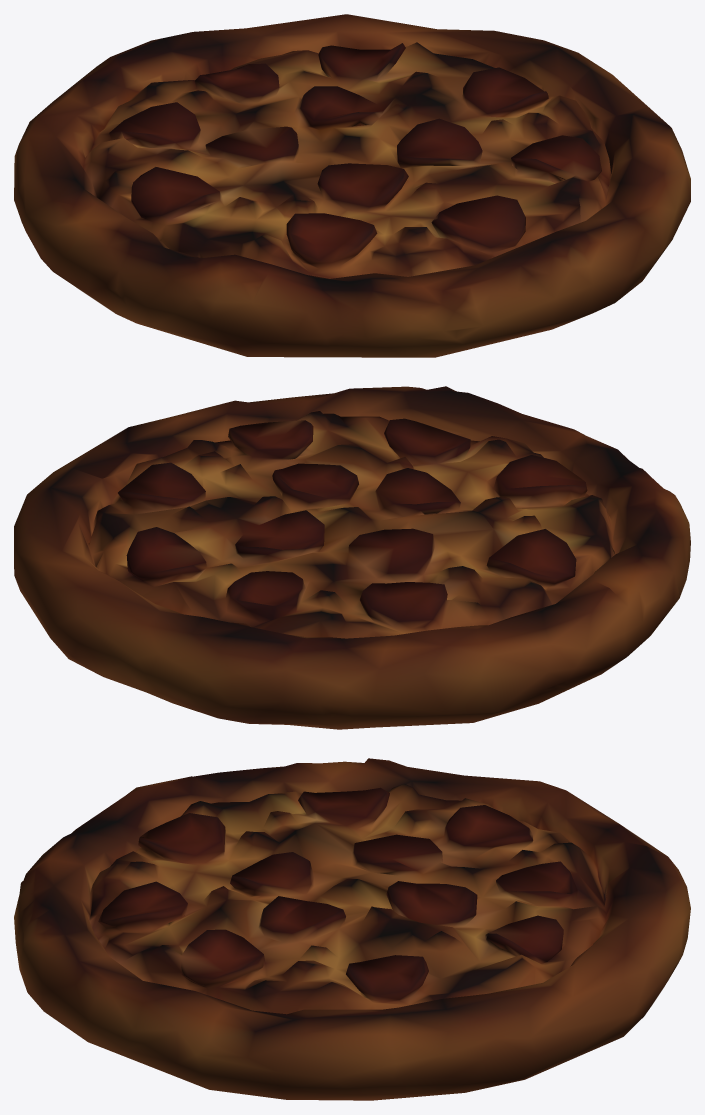
File: meshy-burnt.glb
3 views of the same model, one above another, from view 1: azimuth 30°, elevation 25°; view 2: azimuth 150°, elevation 25°; view 3: azimuth 270°, elevation 25° (orthographic).
Parts seen in each view (by area): view 1: Mesh_0; view 2: Mesh_0; view 3: Mesh_0.
Boxes of the visible parts, x1=… form: Mesh_0: x1=14, y1=14, x2=690, y2=357; Mesh_0: x1=14, y1=386, x2=690, y2=729; Mesh_0: x1=14, y1=758, x2=690, y2=1100.
Size of the model in its own units: 1.88 by 0.314 by 1.9.
